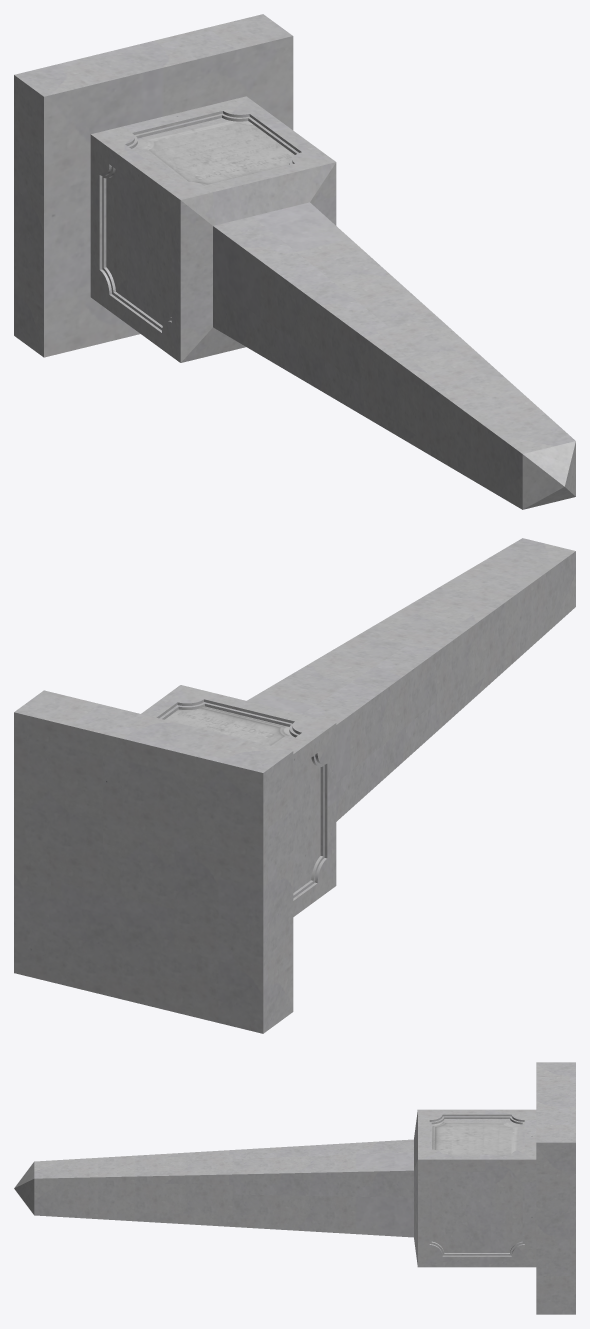
The picture shows the model from 3 angles, top to bottom: view 1: azimuth 30°, elevation 25°; view 2: azimuth 150°, elevation 25°; view 3: azimuth 270°, elevation 25°; orthographic projection. The views are drawn at different scales.
Visible parts, largest first — view 1: PA-197-F_LOD0; view 2: PA-197-F_LOD0; view 3: PA-197-F_LOD0.
Part boxes in pixels (x1,y1,x2,y2): PA-197-F_LOD0: (14,14,575,509); PA-197-F_LOD0: (14,538,575,1033); PA-197-F_LOD0: (14,1062,575,1314).
Size of what is drawn, in the model's own units: 122 by 122 by 361.
